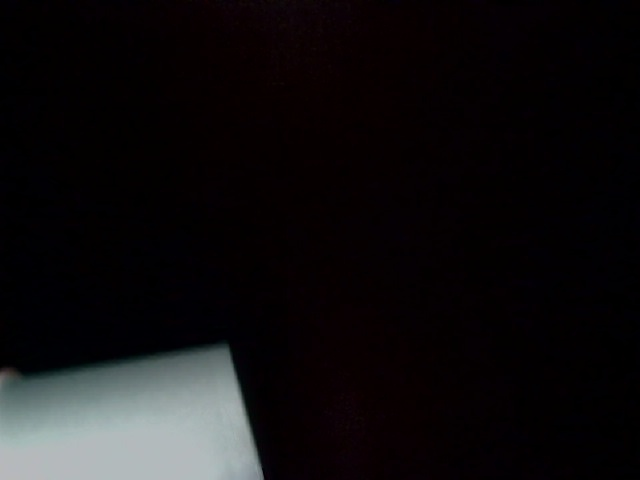CYLJ: (246, 267, 359, 384)
